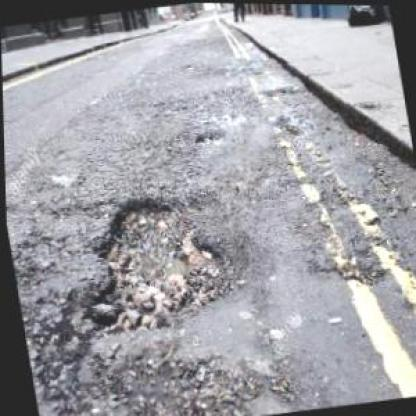pothole: (60, 176, 254, 341), (193, 128, 223, 146)
